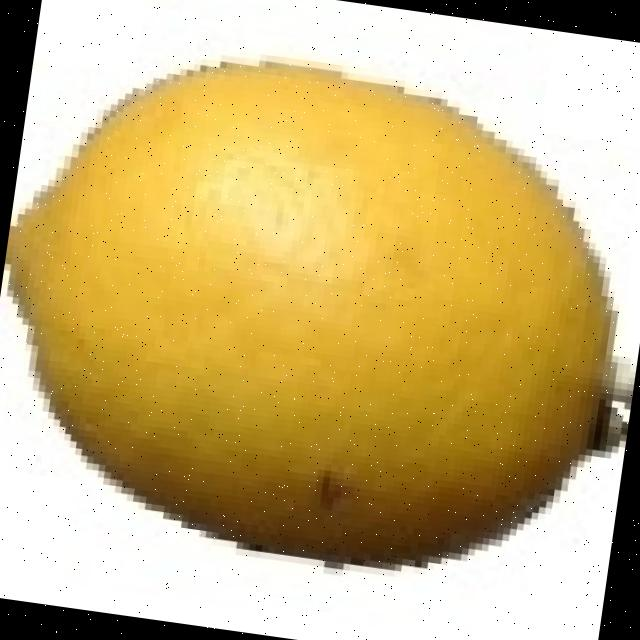lemon: (5, 63, 619, 565)
